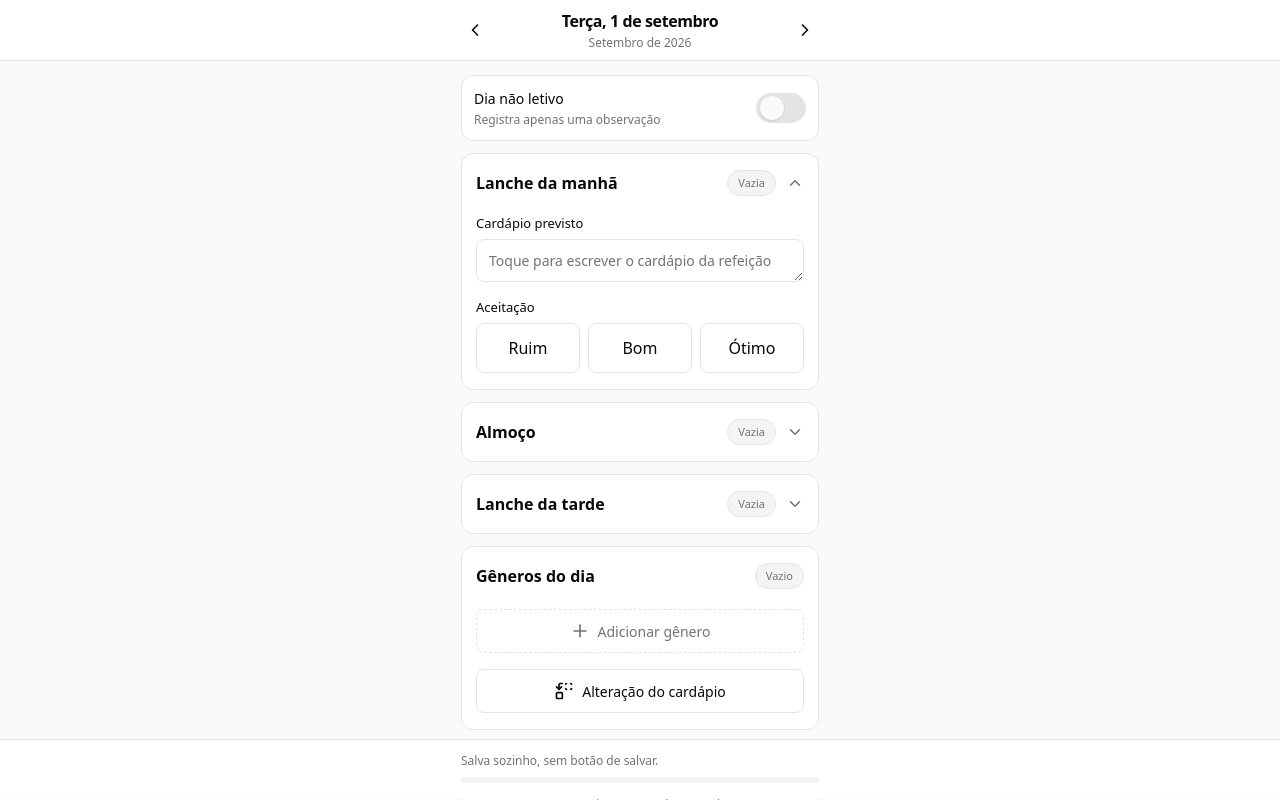
os gêneros utilizados › ficam num cartão do dia, fora das refeições (decisão 14 da E4)
Expected: the text "Vazio" is shown, [755,563,804,589]
Click the button "Adicionar gênero" at (640, 631), box [476,609,804,653]
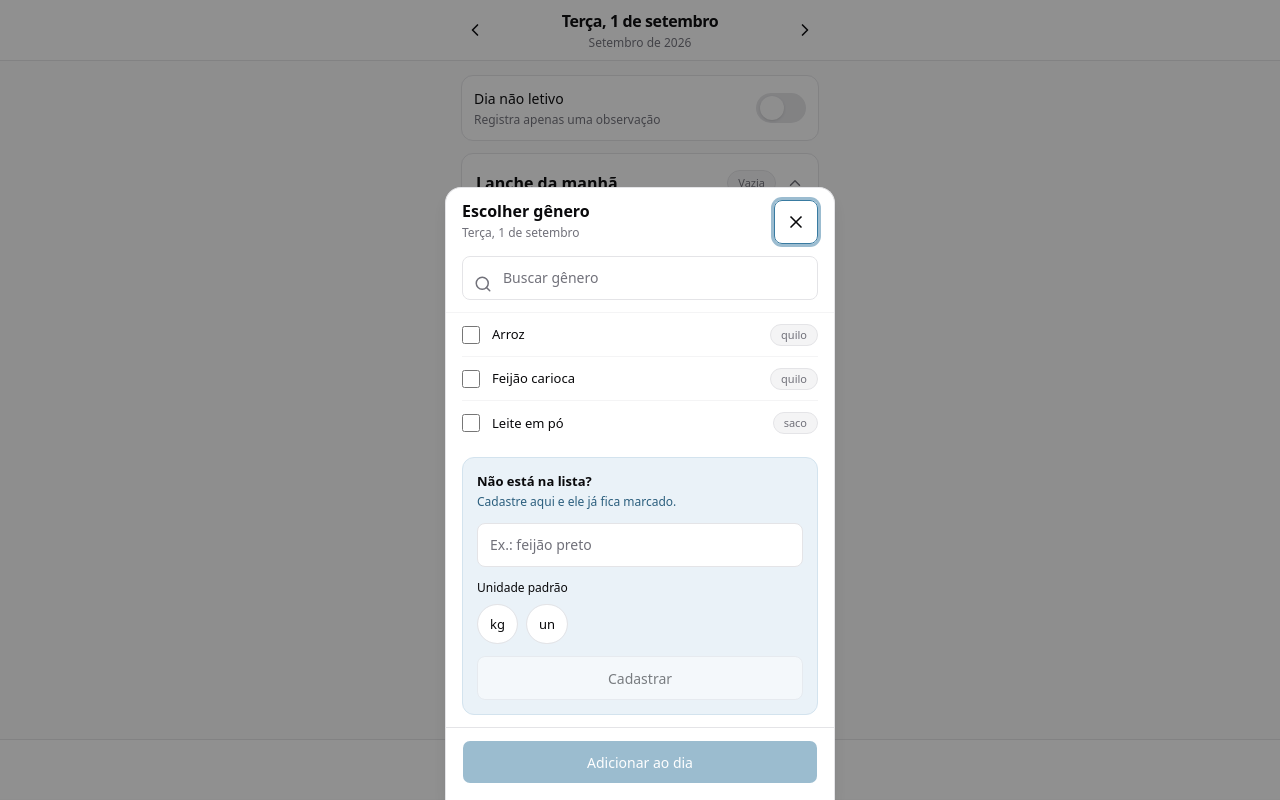
Click the checkbox labelled "Arroz quilo" at (471, 335), box [462,326,480,344]
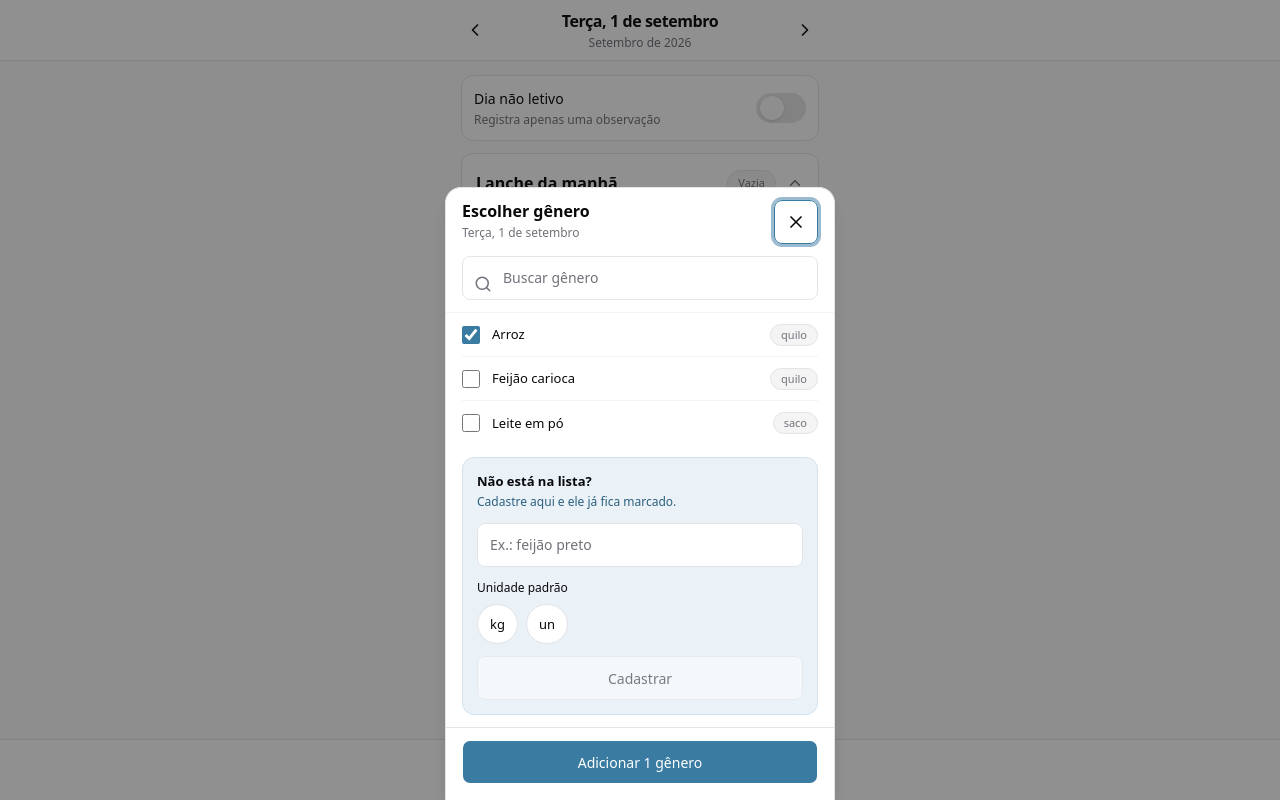
Click the button "Adicionar 1 gênero" at (640, 762), box [462,740,818,784]
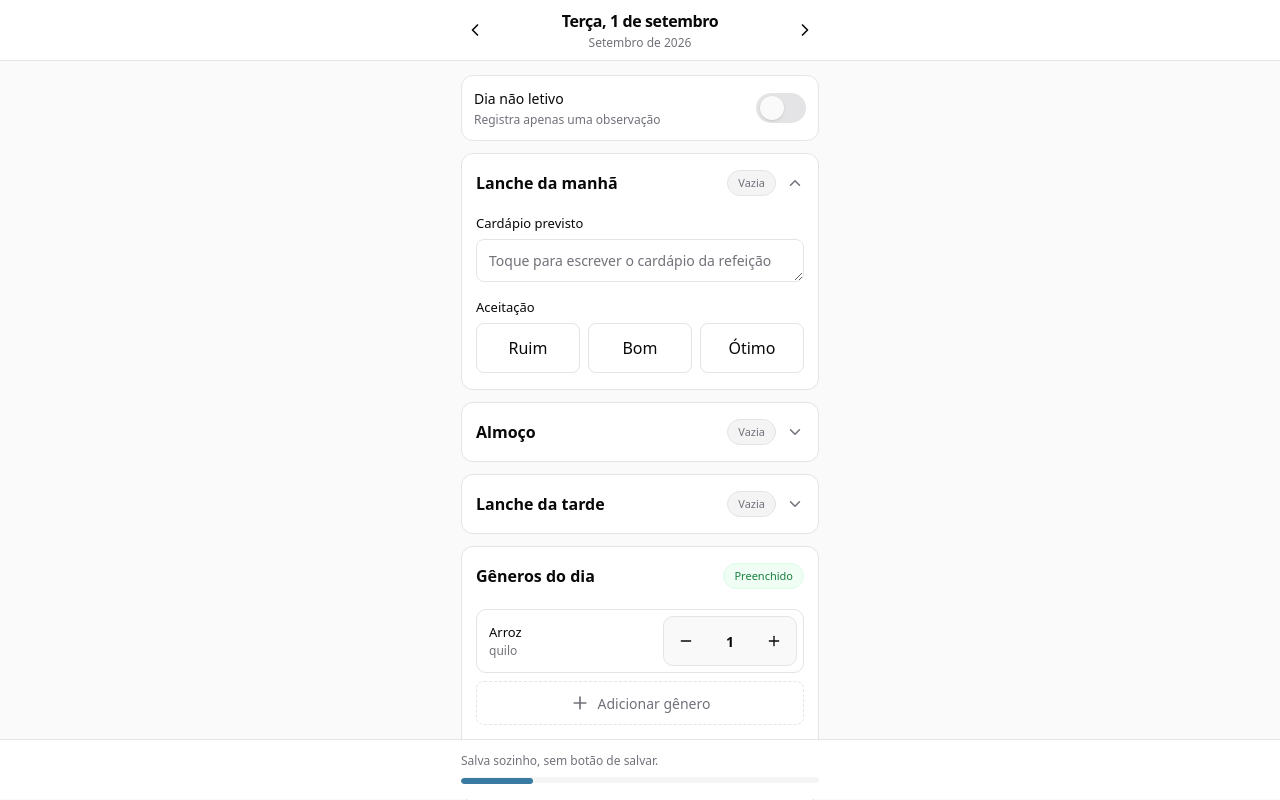
Expected: the text "Preenchido" is shown, [724,563,804,589]
